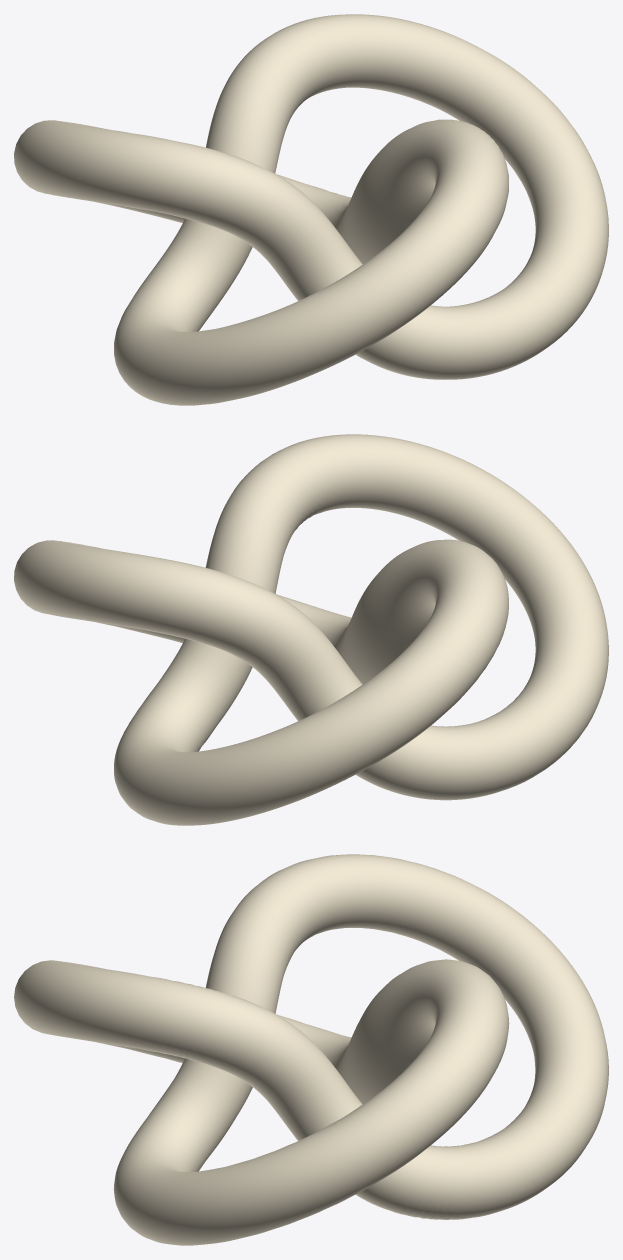
Rendered from signal-knot.glb.
3 views of the same model, one above another, from view 1: azimuth 30°, elevation 25°; view 2: azimuth 150°, elevation 25°; view 3: azimuth 270°, elevation 25° (orthographic).
Parts seen in each view (by area): view 1: Knot; view 2: Knot; view 3: Knot.
Part boxes in pixels (left/top/right/bottom): Knot: left=14, top=14, right=608, bottom=405; Knot: left=14, top=434, right=608, bottom=825; Knot: left=14, top=854, right=608, bottom=1245.
Bounding box in the file's own units: 1.85 × 0.84 × 1.94.
